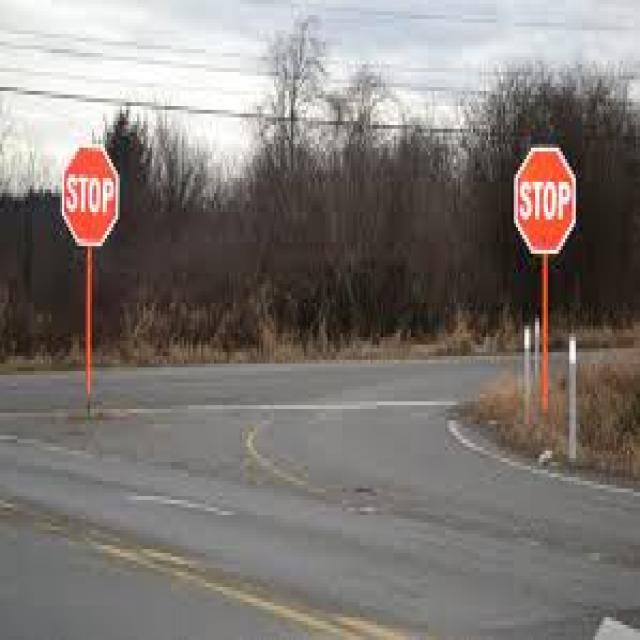stop-sign: (46, 153, 154, 311), (496, 109, 585, 274)
